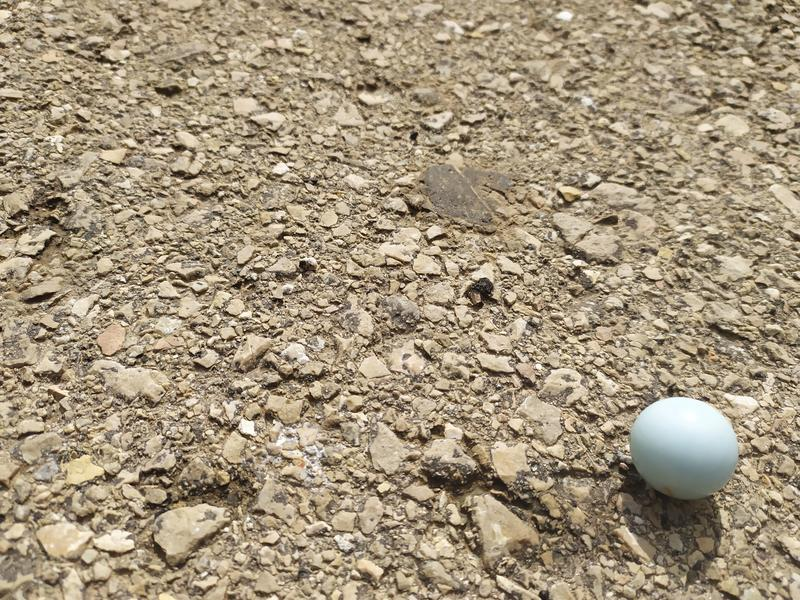Warning: (627, 395, 742, 503)
